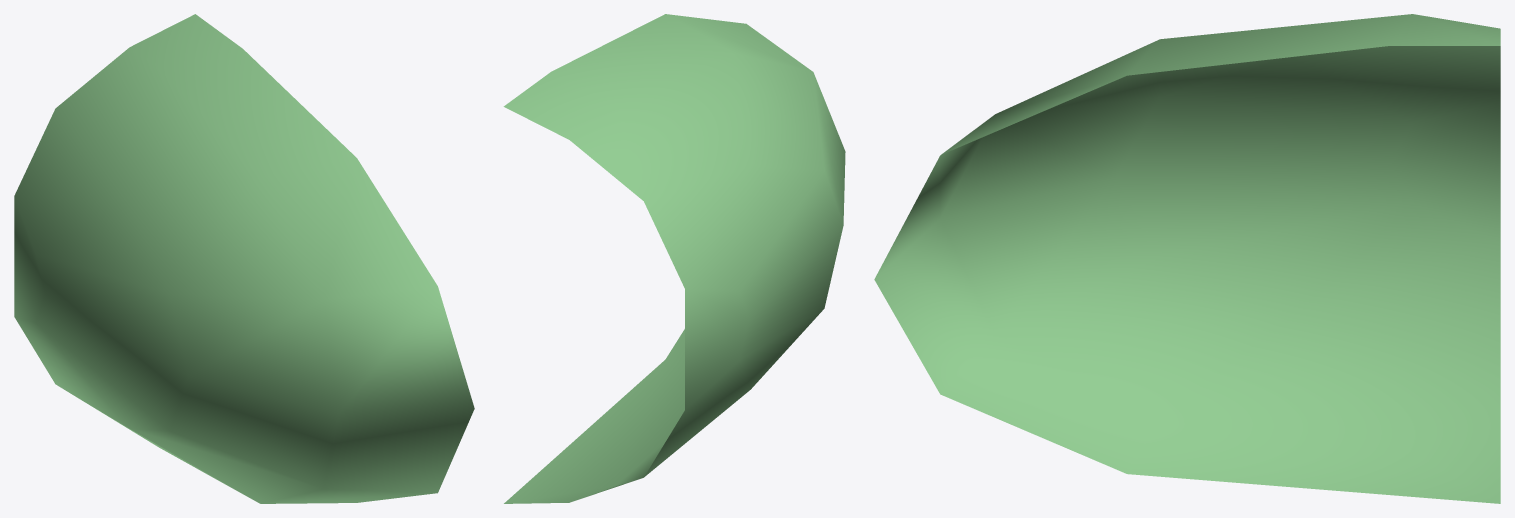
Rendered from m_jet_872bd04e.glb.
3 renders of one model, left to right at view 1: azimuth 30°, elevation 25°; view 2: azimuth 150°, elevation 25°; view 3: azimuth 270°, elevation 25°, orthographic. The views are drawn at different scales.
Visible parts, largest first — view 1: mesh; view 2: mesh; view 3: mesh.
Boxes of the visible parts, x1,y1,x2,y2 form: mesh: [14, 14, 474, 503]; mesh: [503, 14, 845, 503]; mesh: [874, 14, 1500, 503].
Bounding box in the file's own units: 25 × 46 × 57.
